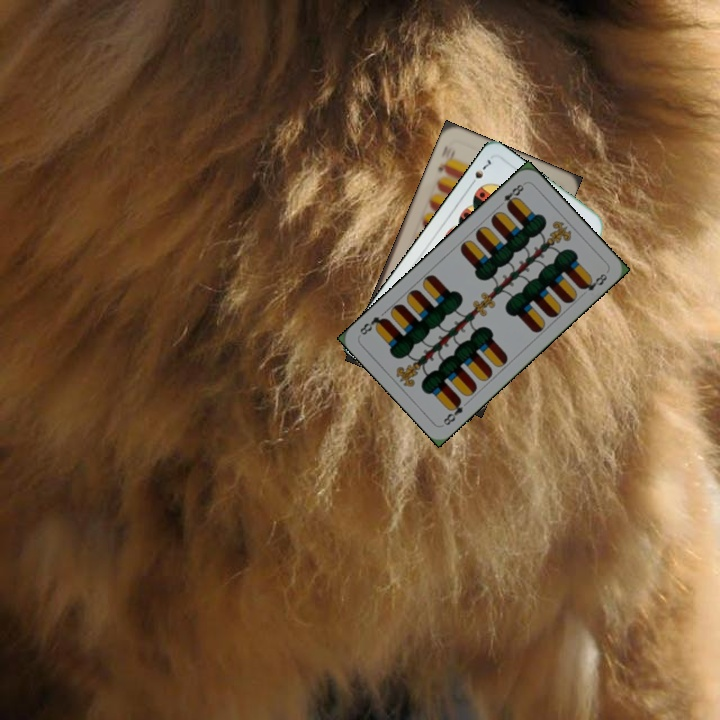E10: (433, 143, 454, 176)
E8: (494, 179, 527, 211), (439, 394, 466, 428)
S7: (465, 155, 494, 190)
